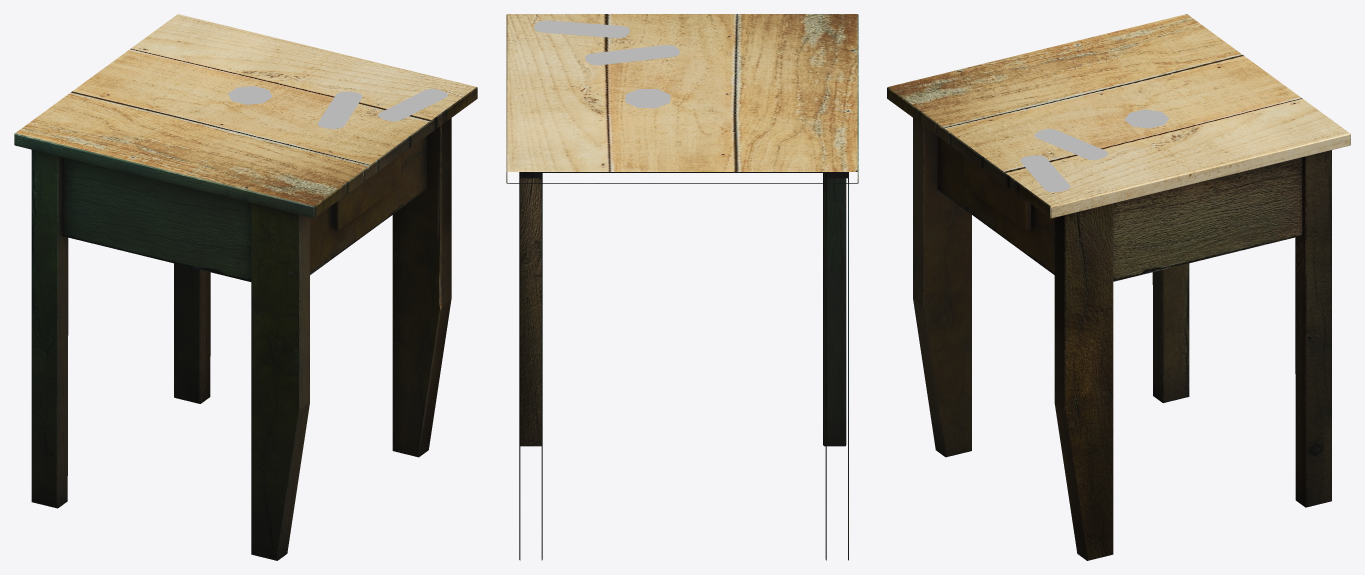
File: table.glb
3 views of the same model, side by side, from view 1: azimuth 30°, elevation 25°; view 2: azimuth 150°, elevation 25°; view 3: azimuth 270°, elevation 25° (orthographic). The views are drawn at different scales.
Size of the model in its own units: 0.925 by 0.8248 by 0.9386.
Materials: 1 (1 with a texture image).
